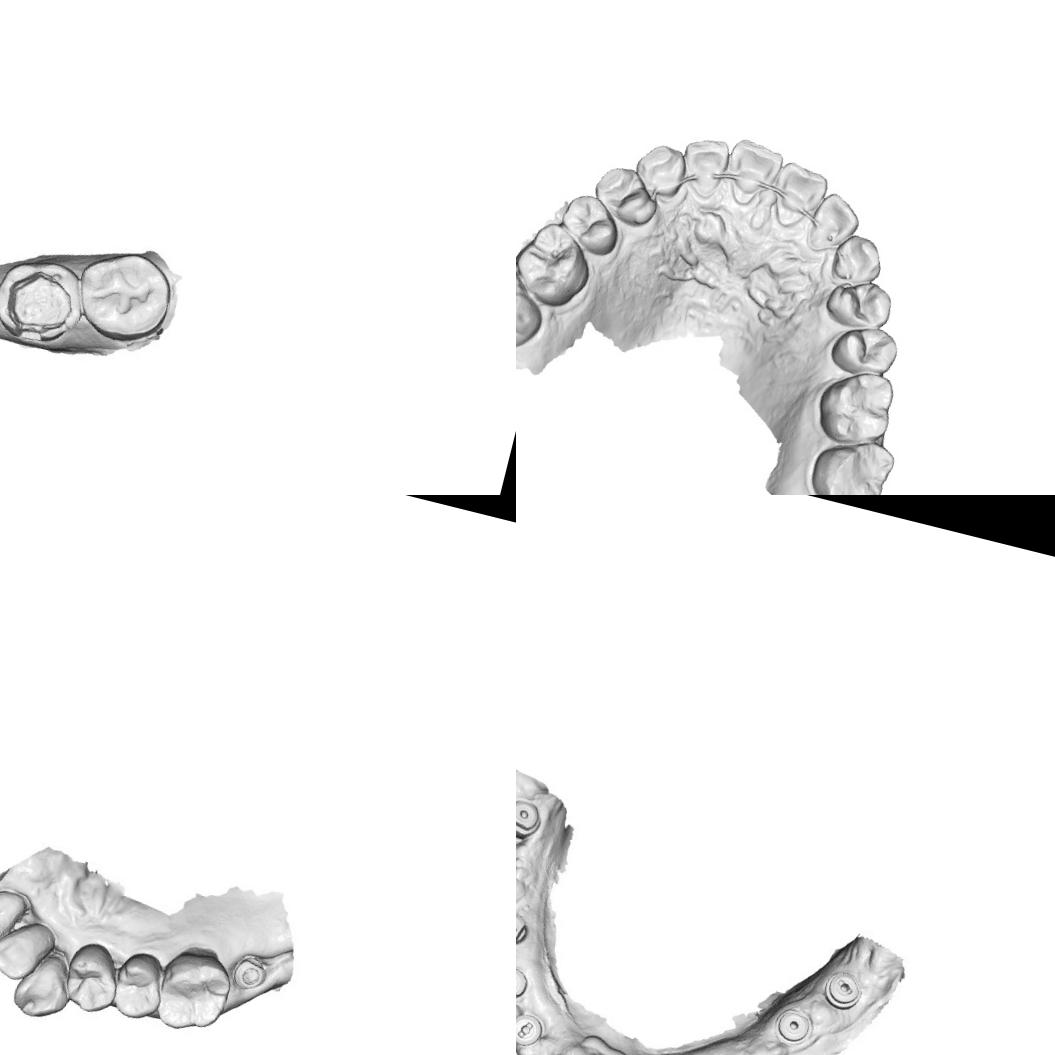canine: (7, 948, 77, 1026), (824, 228, 889, 292), (628, 136, 689, 204)
implant: (228, 952, 272, 996), (774, 1007, 815, 1047), (516, 793, 545, 844), (516, 961, 533, 1003)
implant_minus: (820, 970, 865, 1013), (516, 1011, 550, 1053), (516, 906, 535, 949)
incisor: (716, 133, 788, 213), (766, 157, 833, 234), (801, 186, 866, 259), (672, 130, 734, 202), (0, 918, 52, 984), (0, 883, 20, 956)
inlay: (0, 261, 77, 347)
molar: (69, 241, 181, 352), (148, 938, 240, 1042), (808, 360, 900, 454), (516, 213, 601, 314), (802, 427, 899, 495), (516, 258, 552, 357)
premolar: (56, 936, 128, 1020), (551, 186, 630, 260), (585, 158, 666, 230), (106, 946, 172, 1027), (820, 270, 899, 337), (824, 316, 902, 383)
